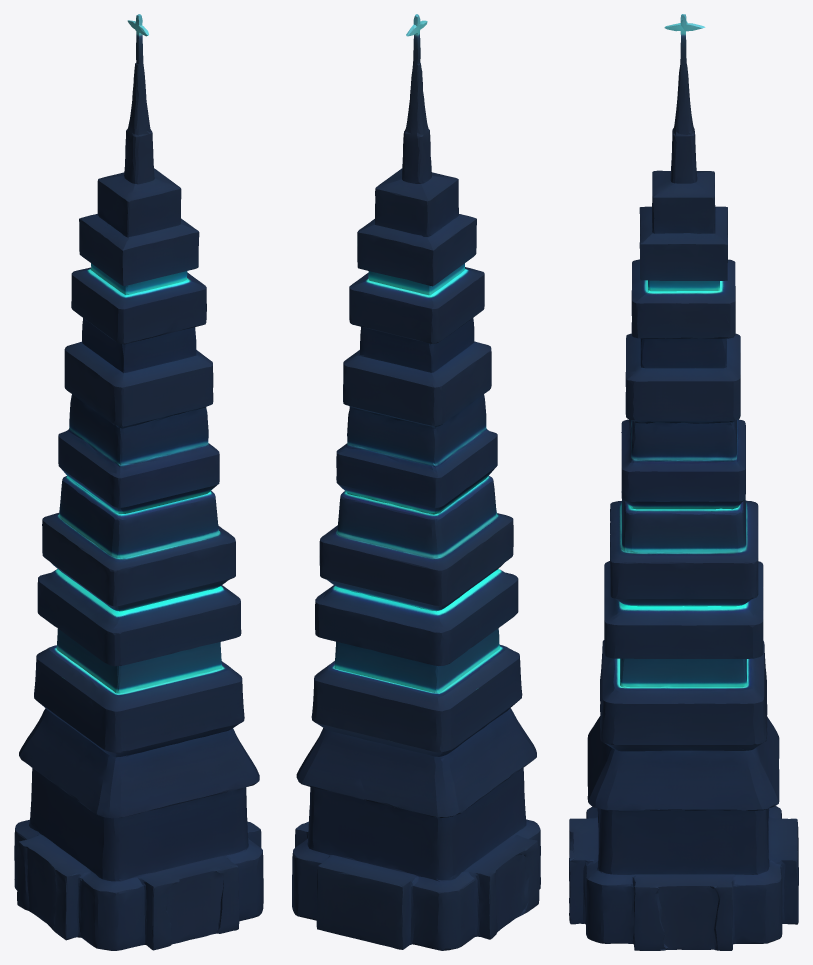
File: brain-tower-ai-v1-20k.fbx
3 views of the same model, side by side, from view 1: azimuth 30°, elevation 25°; view 2: azimuth 150°, elevation 25°; view 3: azimuth 270°, elevation 25° (orthographic).
Visible parts, largest first — view 1: model; view 2: model; view 3: model.
Boxes of the visible parts, bbox=[...] form: model: bbox=[14, 14, 263, 950]; model: bbox=[292, 14, 540, 950]; model: bbox=[569, 14, 798, 950].
Size of the model in its own units: 44.02 by 189 by 44.32.
1 material, 1 textured.
